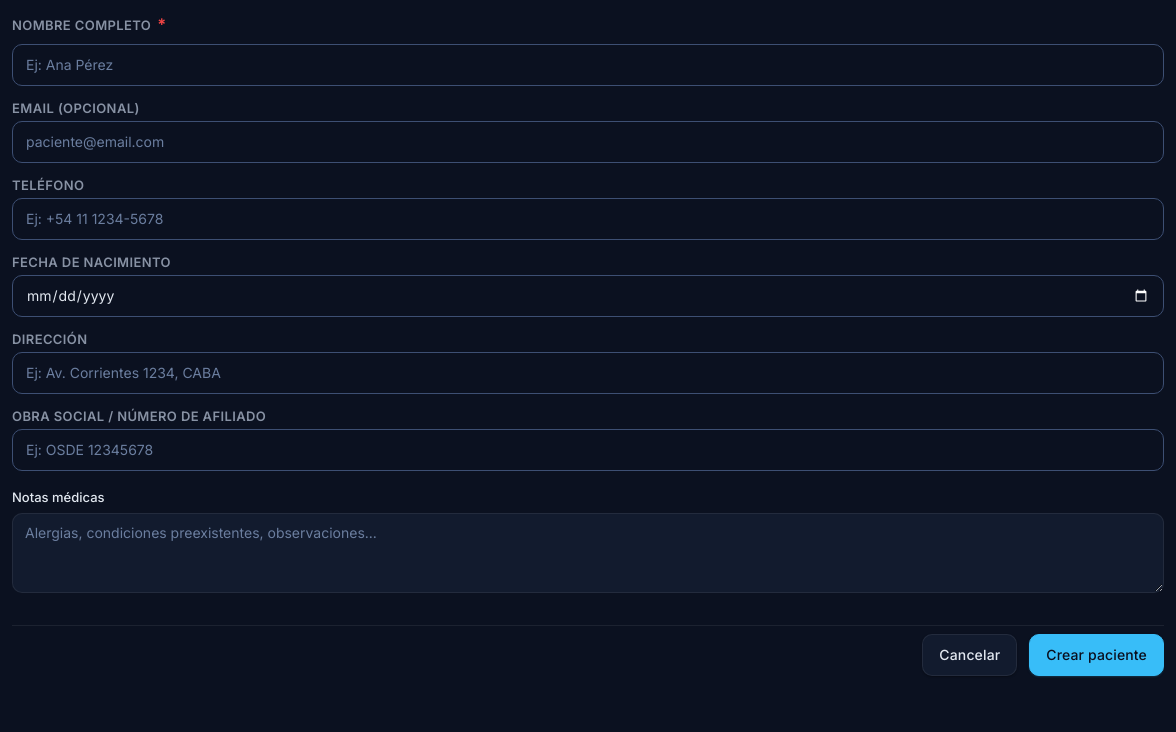
Scenario: PatientForm › exige nombre y no envía nada si falta
This screenshot has width=1176, height=732.
Click the button "Crear paciente": (1097, 655) [1029,634,1164,676]
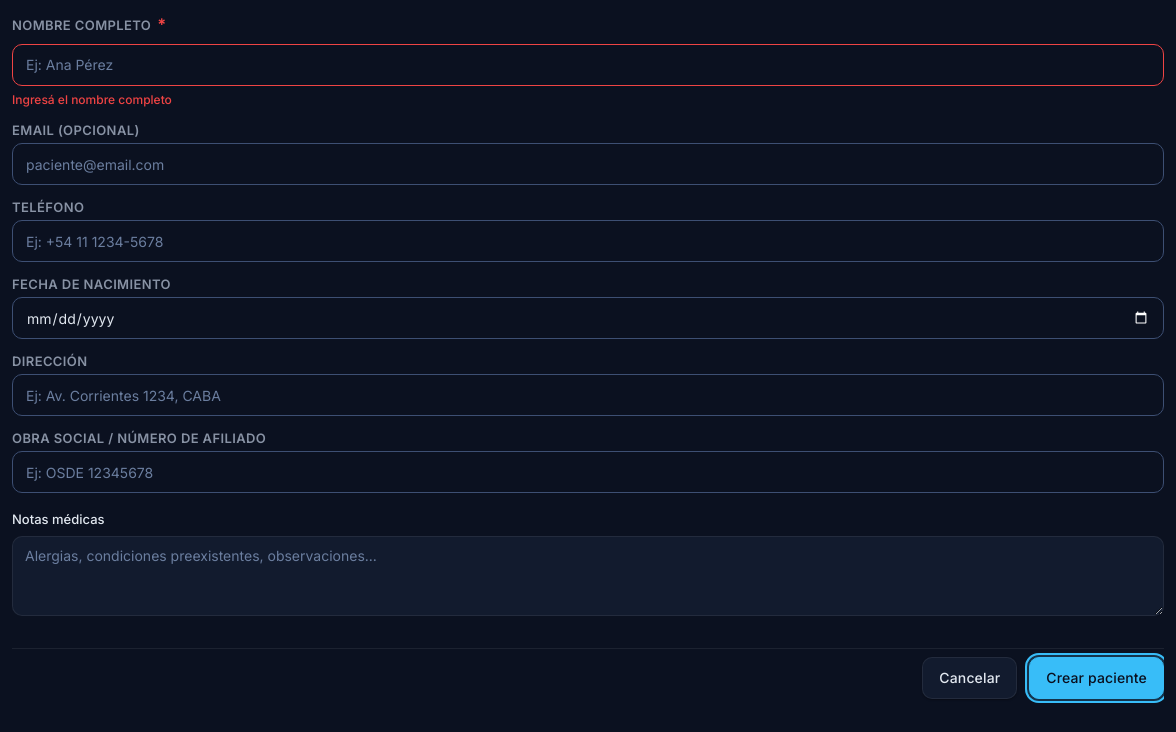
Expected: the text "Ingresá el nombre completo" is shown, [12,92,172,107]
